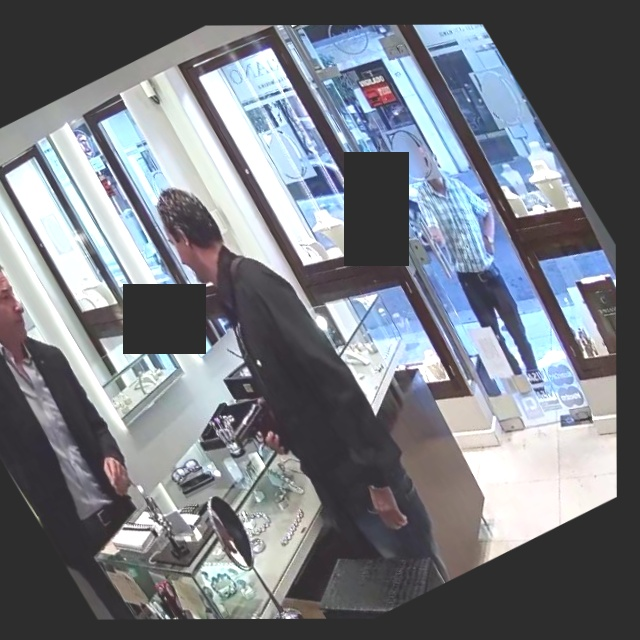gun: (202, 382, 301, 484)
